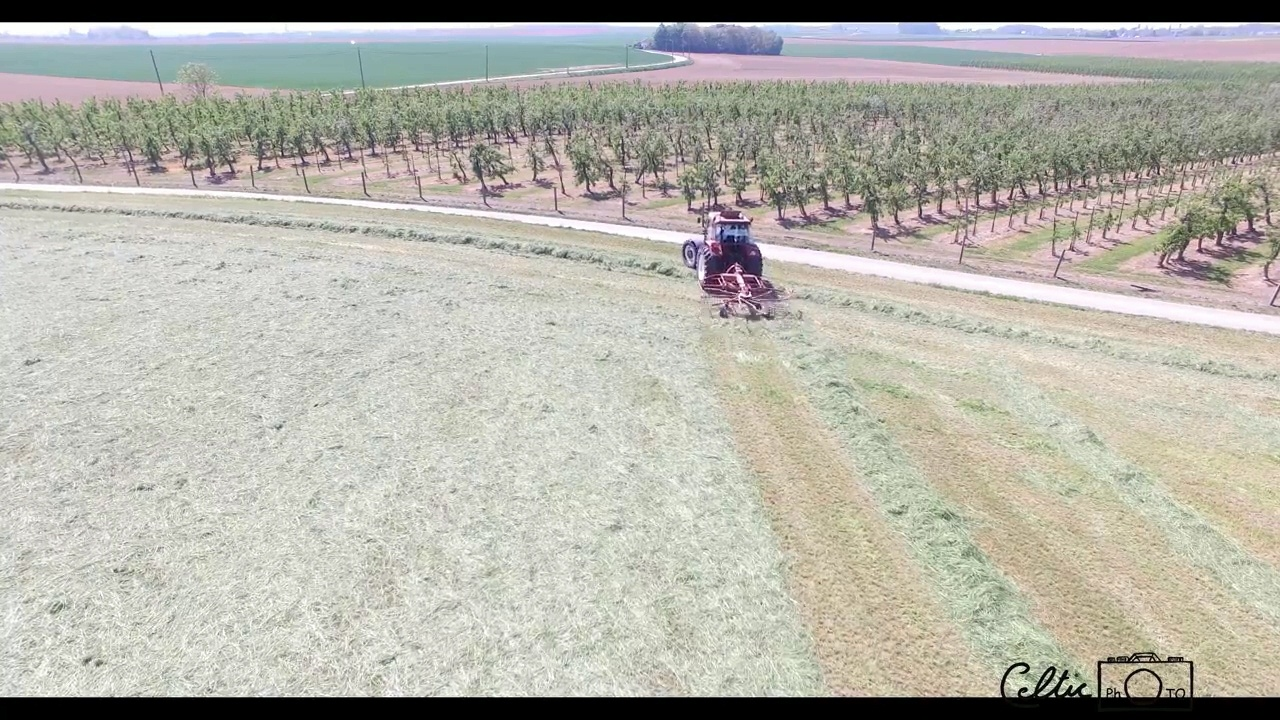traktor: (681, 202, 764, 284)
